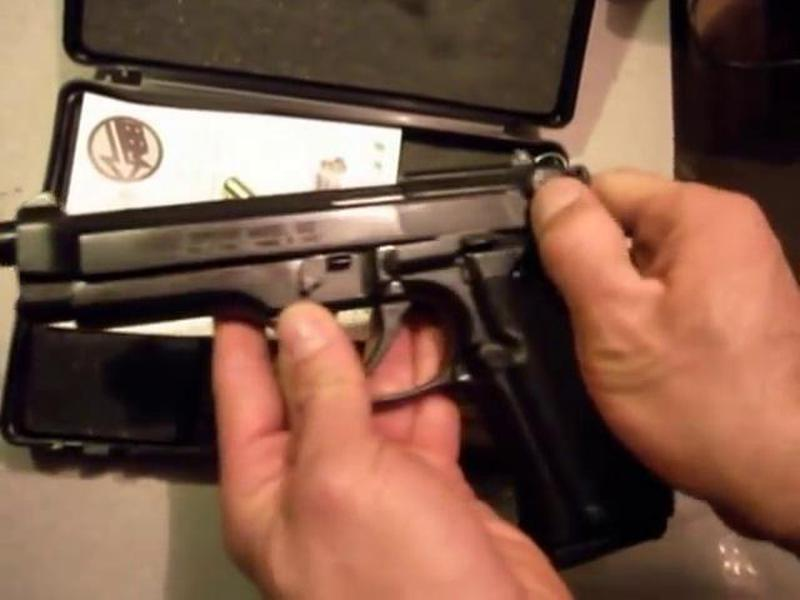Pistola: (21, 144, 699, 554)
